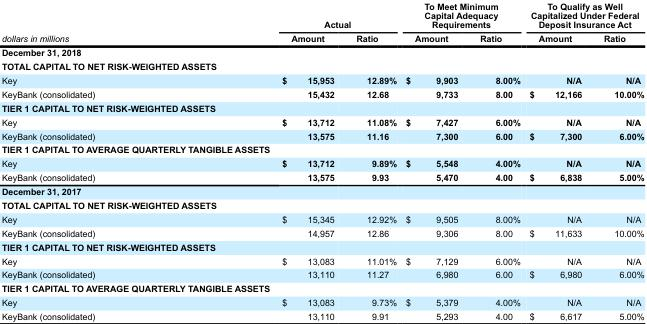table: (0, 1, 643, 320)
table column: (0, 1, 187, 320), (187, 1, 344, 320), (400, 1, 468, 320), (524, 1, 592, 320), (344, 1, 400, 320), (468, 1, 524, 320), (592, 1, 643, 320)
table column header: (0, 1, 643, 45)
table projected row header: (0, 45, 643, 59), (0, 59, 643, 73), (0, 100, 643, 114), (0, 142, 643, 156), (0, 184, 643, 198), (0, 239, 643, 253), (0, 281, 643, 295), (0, 198, 643, 211)
table row: (0, 1, 643, 30), (0, 30, 643, 45), (0, 45, 643, 59), (0, 59, 643, 73), (0, 86, 643, 100), (0, 100, 643, 114), (0, 114, 643, 128), (0, 128, 643, 142), (0, 142, 643, 156), (0, 156, 643, 170), (0, 170, 643, 184), (0, 184, 643, 198), (0, 211, 643, 225), (0, 225, 643, 239), (0, 239, 643, 253), (0, 253, 643, 267), (0, 267, 643, 281), (0, 281, 643, 295), (0, 295, 643, 309), (0, 73, 643, 86), (0, 198, 643, 211), (0, 309, 643, 320)
table spanning cell: (0, 1, 187, 45), (187, 1, 400, 30), (400, 1, 524, 30), (524, 1, 643, 30)
